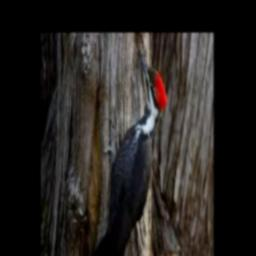Woodpecker: (84, 45, 168, 256)
